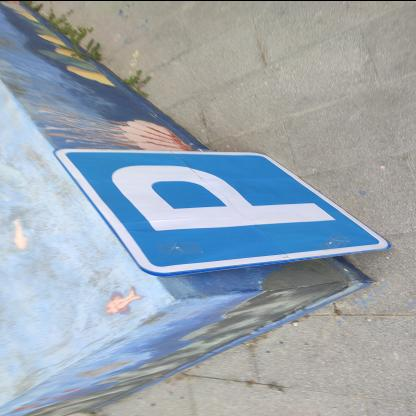Parking-Sign: (54, 148, 394, 276)
